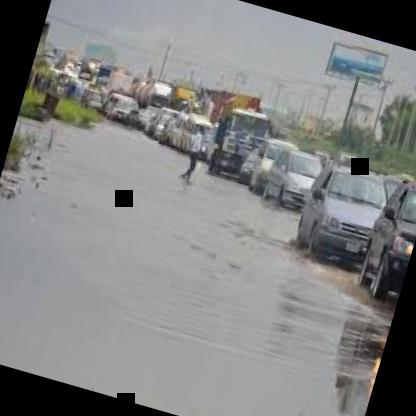car: (285, 150, 398, 270), (350, 150, 416, 310), (193, 82, 290, 190), (255, 131, 332, 213)
